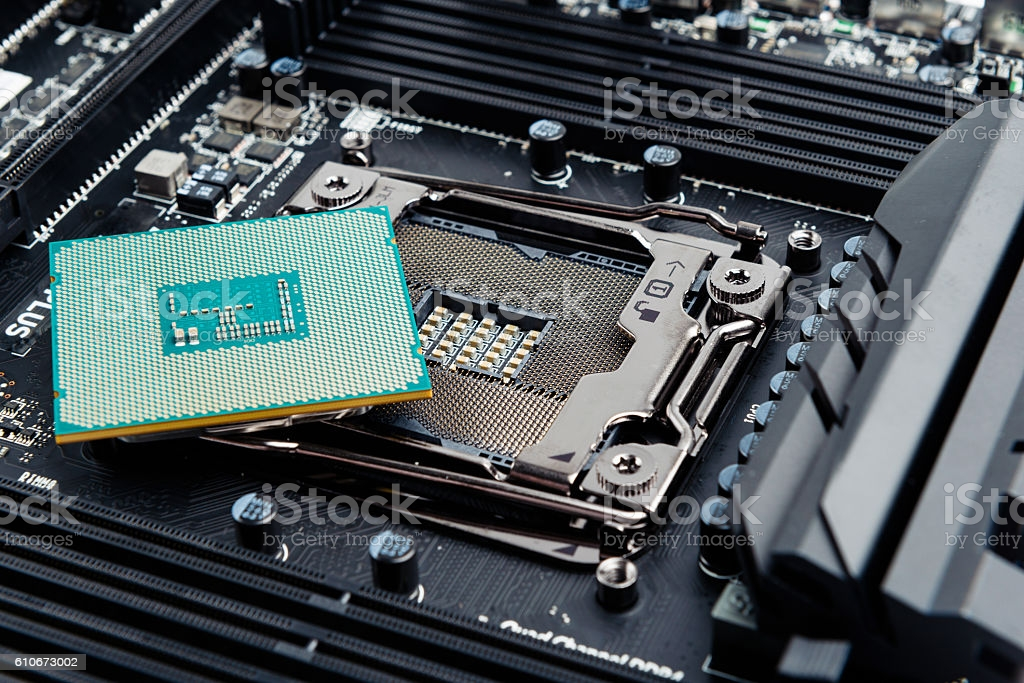processor: (46, 204, 436, 447)
